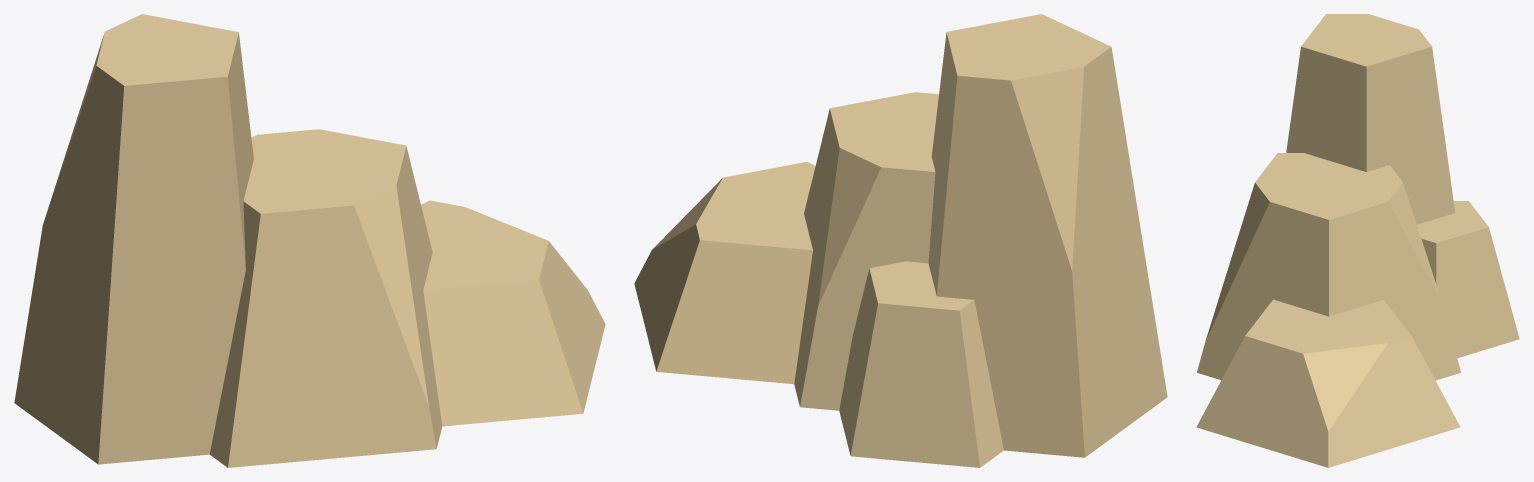
The model's file is rockC.dae.
3 views of the same model, side by side, from view 1: azimuth 30°, elevation 25°; view 2: azimuth 150°, elevation 25°; view 3: azimuth 270°, elevation 25° (orthographic). The views are drawn at different scales.
Visible parts, largest first — view 1: rockC; view 2: rockC; view 3: rockC.
Part boxes in pixels (box(x1,y1,x2,y2)): rockC: box(14, 14, 605, 467); rockC: box(634, 14, 1167, 467); rockC: box(1196, 14, 1519, 467).
Size of the model in its own units: 0.7837 by 0.51 by 0.5468.
